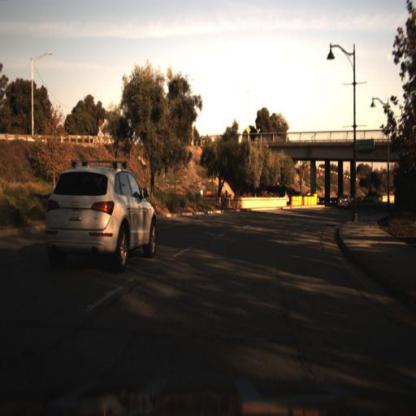car: (46, 157, 159, 274), (335, 190, 357, 213)
